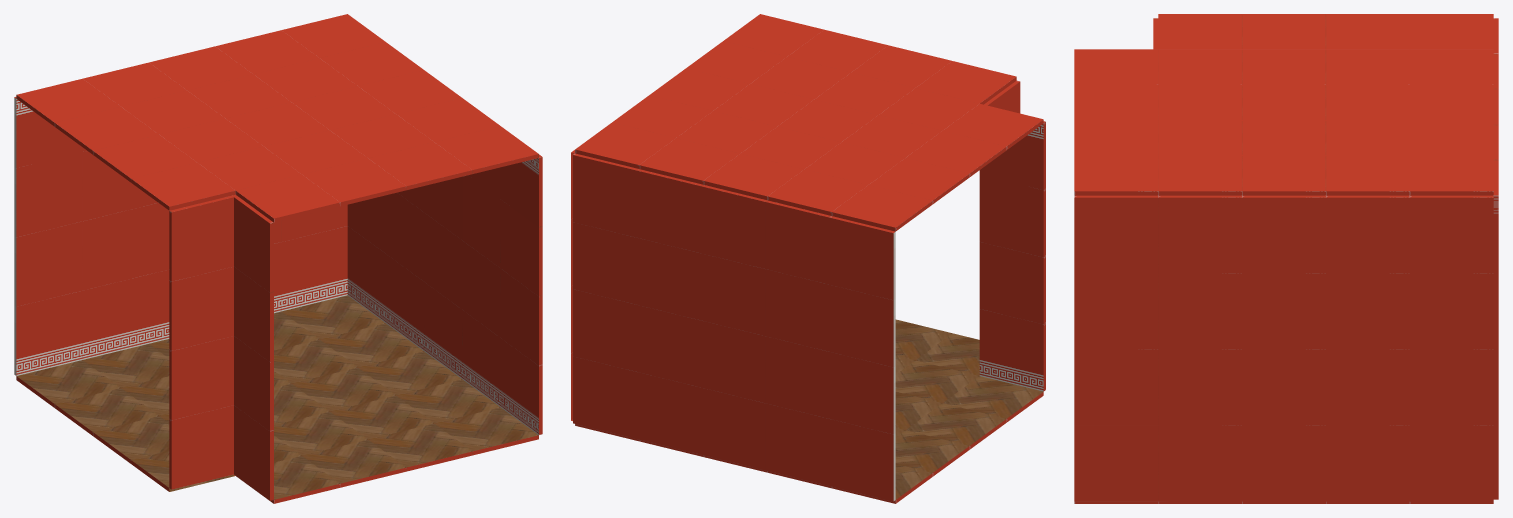
Rendered from ConexaoL.fbx.
3 views of the same model, side by side, from view 1: azimuth 30°, elevation 25°; view 2: azimuth 150°, elevation 25°; view 3: azimuth 270°, elevation 25° (orthographic). The views are drawn at different scales.
Parts seen in each view (by area): view 1: ConexaoL; view 2: ConexaoL; view 3: ConexaoL.
Boxes of the visible parts, bbox=[...] form: ConexaoL: bbox=[14, 14, 542, 503]; ConexaoL: bbox=[571, 14, 1045, 503]; ConexaoL: bbox=[1074, 14, 1498, 503].
Bounding box in the file's own units: 1012 × 823 × 1012.
